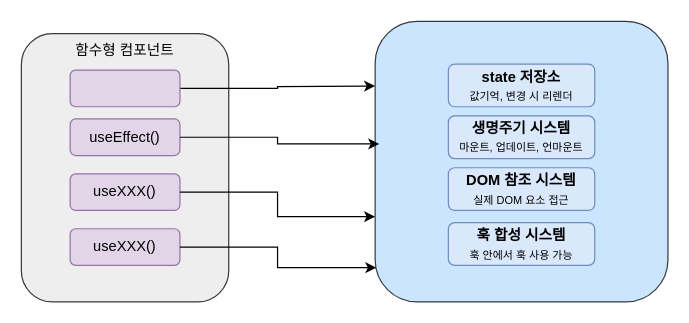
Some shapes in this 689 by 323 pixel diagram are drawn without their labels. Each missing label, with the box of its shape:
React 내부 엔진: (374, 20, 668, 302)
useState(): (69, 69, 180, 107)
